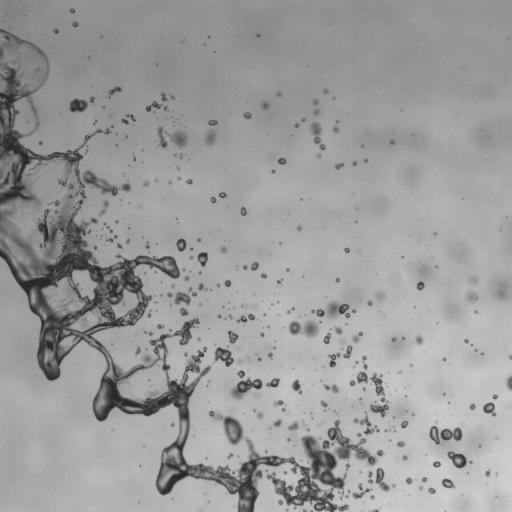droplet: (230, 370, 262, 399), (157, 126, 187, 148), (368, 468, 395, 491), (353, 413, 379, 435), (447, 451, 471, 468), (214, 347, 234, 366), (174, 288, 196, 304), (352, 483, 371, 498), (69, 98, 87, 112), (483, 402, 496, 416), (328, 353, 340, 367), (291, 379, 302, 394), (205, 130, 215, 145), (465, 291, 478, 302), (273, 400, 286, 411), (121, 114, 135, 124), (197, 252, 207, 266), (228, 330, 238, 344), (441, 478, 455, 488), (176, 238, 186, 251), (352, 331, 362, 343), (266, 378, 279, 387), (288, 421, 299, 431), (416, 281, 424, 290), (376, 292, 384, 301), (415, 335, 423, 344), (323, 333, 330, 343), (180, 307, 188, 315), (320, 400, 327, 409), (243, 112, 251, 119), (251, 262, 258, 270), (470, 276, 477, 284), (198, 283, 206, 290), (273, 419, 281, 426), (107, 236, 116, 242), (432, 461, 441, 467), (261, 102, 268, 109), (219, 246, 226, 253), (224, 280, 231, 287), (335, 327, 342, 334), (256, 412, 263, 419), (161, 93, 167, 101), (278, 158, 286, 164), (240, 207, 246, 215), (401, 420, 407, 428), (208, 120, 217, 125), (335, 163, 342, 169), (469, 403, 475, 410), (397, 441, 404, 447), (406, 477, 412, 484), (428, 487, 435, 493), (312, 99, 318, 105), (210, 197, 216, 203), (498, 291, 504, 297), (219, 192, 226, 197), (157, 324, 164, 329), (136, 346, 140, 354), (72, 21, 78, 26), (314, 109, 319, 115), (333, 126, 338, 132), (186, 179, 192, 184), (143, 181, 149, 186), (184, 275, 189, 281), (267, 352, 272, 358), (485, 470, 490, 476), (145, 242, 149, 249), (261, 273, 266, 278), (167, 292, 172, 297), (367, 300, 372, 305), (237, 359, 242, 364), (402, 455, 407, 460), (90, 96, 94, 102), (241, 304, 247, 308), (69, 8, 74, 12), (54, 28, 58, 33), (323, 89, 328, 93), (117, 243, 121, 248), (344, 248, 349, 252), (278, 279, 282, 284), (464, 339, 469, 343), (493, 394, 497, 399), (422, 477, 427, 481), (146, 332, 152, 335), (277, 92, 281, 96), (295, 123, 299, 127), (390, 140, 394, 144), (179, 154, 183, 158), (352, 161, 356, 165), (297, 226, 301, 230), (243, 265, 247, 269), (147, 312, 151, 316), (257, 357, 261, 361), (228, 454, 232, 458), (370, 495, 374, 499), (317, 153, 320, 157), (272, 169, 275, 173), (336, 278, 339, 282), (217, 315, 221, 318), (228, 315, 232, 318), (260, 332, 263, 336), (392, 337, 395, 341), (283, 471, 287, 474), (419, 486, 422, 490), (509, 355, 511, 360), (177, 177, 180, 180), (126, 239, 129, 242), (197, 238, 200, 241), (189, 256, 192, 259), (352, 309, 355, 312), (443, 357, 446, 360), (355, 361, 358, 364), (255, 393, 258, 396), (171, 423, 174, 426), (36, 68, 39, 70), (302, 118, 304, 121), (39, 141, 41, 144), (364, 159, 367, 161), (168, 181, 171, 183), (254, 305, 256, 308), (197, 338, 200, 340), (184, 353, 187, 355), (287, 438, 289, 441), (285, 509, 288, 511), (171, 96, 173, 98), (94, 121, 96, 123), (133, 157, 135, 159), (434, 232, 436, 234), (94, 246, 96, 248), (190, 248, 192, 250), (217, 284, 219, 286), (342, 342, 344, 344), (398, 371, 400, 373), (334, 411, 336, 413)
ligament: (0, 29, 383, 511), (349, 356, 388, 417), (311, 301, 349, 319), (429, 425, 462, 444), (288, 320, 321, 338), (310, 122, 325, 150), (145, 101, 167, 111), (237, 314, 255, 323), (99, 200, 108, 215), (324, 384, 338, 393), (108, 86, 121, 95), (343, 345, 352, 358), (506, 375, 511, 391), (301, 421, 309, 431), (104, 223, 112, 232), (385, 427, 395, 432), (287, 307, 294, 313), (370, 509, 379, 511)
